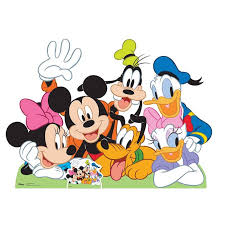mickey: (48, 75, 111, 148)
